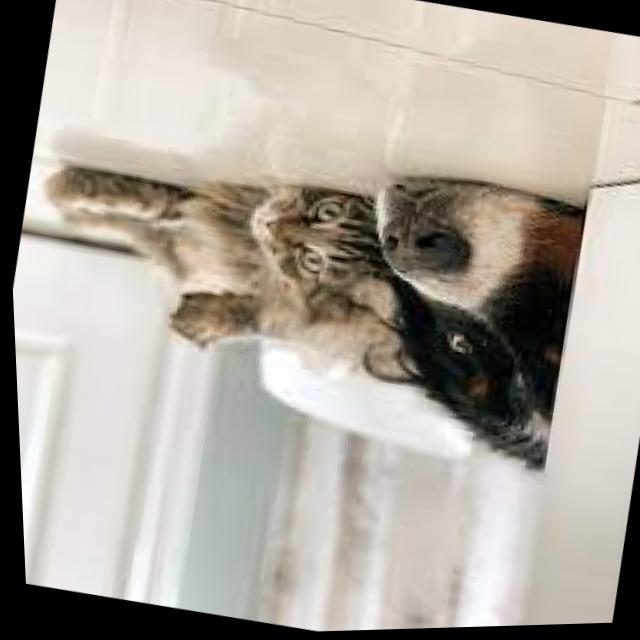Cat: (3, 77, 392, 431)
Dog: (339, 131, 640, 497)
